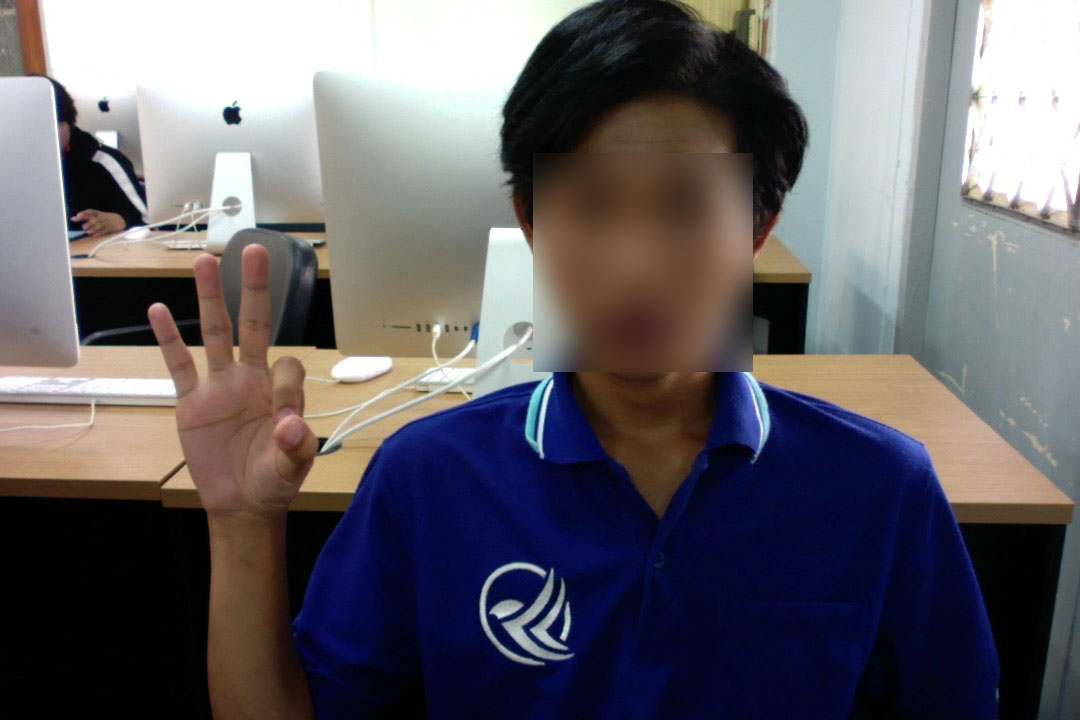for: (136, 232, 324, 532)
